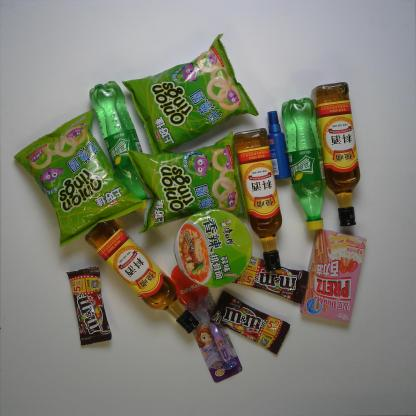Chocolate: (208, 290, 292, 356), (66, 264, 114, 348), (232, 255, 310, 304)
Dessert: (299, 228, 368, 324)
Drink: (88, 80, 150, 214), (280, 96, 328, 231)
Instant Noodles: (173, 209, 253, 288)
Personal Hygiene: (171, 263, 244, 384), (267, 110, 291, 181)
Puffed Food: (13, 108, 144, 248), (121, 33, 260, 155), (126, 130, 250, 234)
Seasoner: (84, 216, 201, 335), (311, 80, 361, 228), (233, 127, 284, 271)
